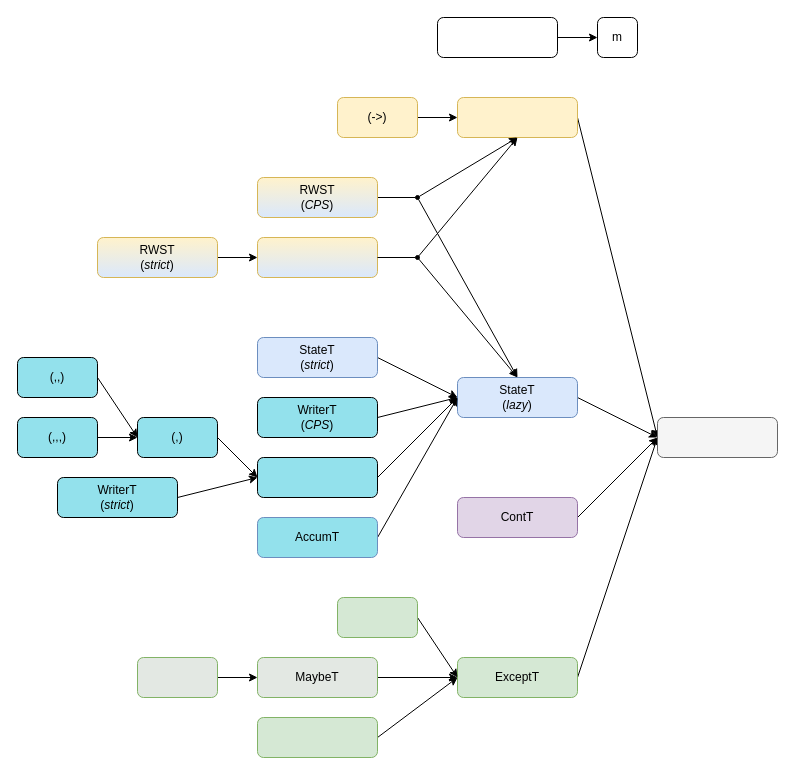
This 795x775 diagram has some shape labels left out. The shapes that lost their labels are listed below. From the top down, each one's box as (x1, y1, x2, y2) in pixels, then its label:
(436, 16, 558, 58): IdentityT m
(456, 96, 578, 138): ReaderT
(256, 236, 378, 278): RWST ( lazy )
(656, 416, 778, 458): Lifting
(256, 456, 378, 498): WriterT ( lazy )
(336, 596, 418, 638): Either
(136, 656, 218, 698): Maybe
(256, 716, 378, 758): CatchT
